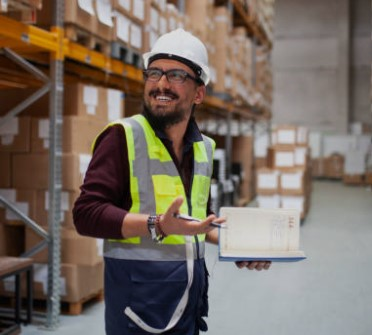worker: (101, 29, 214, 261)
